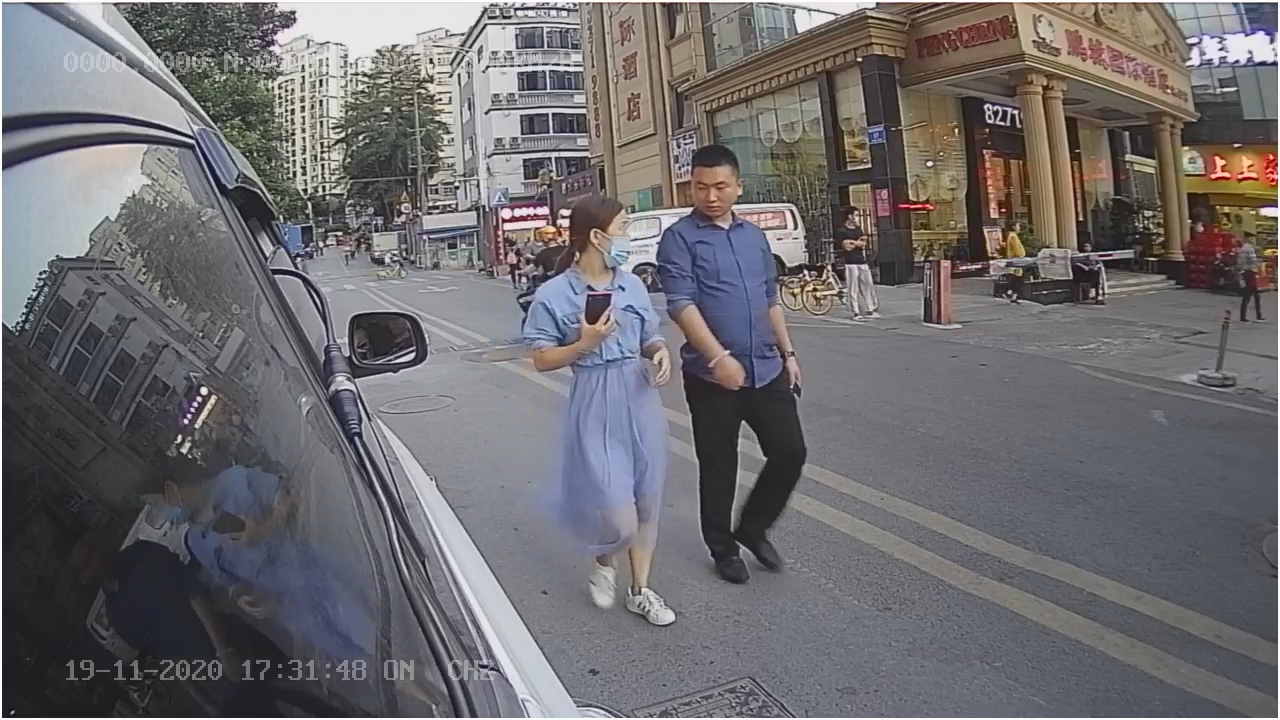person: (670, 144, 821, 576), (523, 193, 673, 554)
